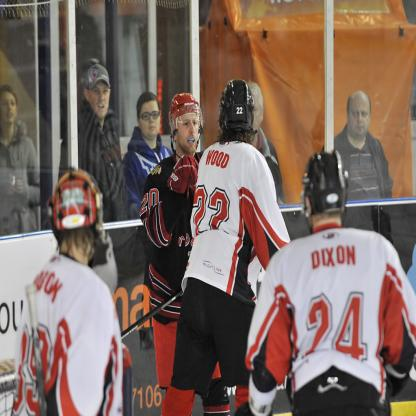Helmet: (46, 172, 101, 265), (303, 148, 347, 217), (168, 92, 201, 158), (219, 74, 255, 131)
